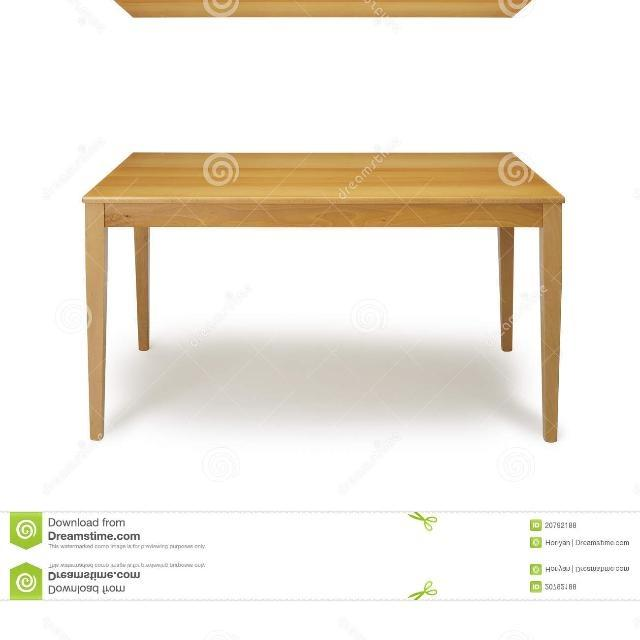obstacle: (60, 116, 620, 488), (60, 0, 620, 51), (60, 622, 620, 640)
